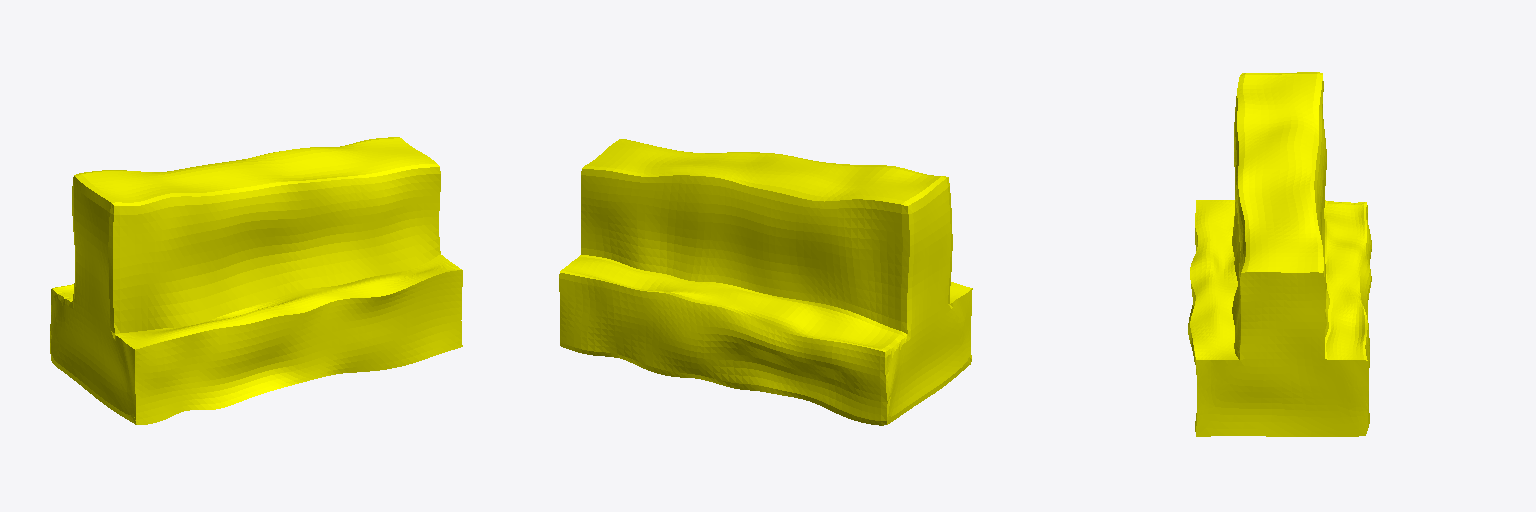
File: reel.obj
The picture shows the model from 3 angles: view 1: azimuth 30°, elevation 25°; view 2: azimuth 150°, elevation 25°; view 3: azimuth 270°, elevation 25°; orthographic projection.
Visible parts, largest first — view 1: reel; view 2: reel; view 3: reel.
Part boxes in pixels (left/top/right/bottom): reel: left=50, top=137, right=462, bottom=424; reel: left=559, top=139, right=972, bottom=425; reel: left=1188, top=72, right=1371, bottom=436.
Bounding box in the file's own units: 4.43 × 2.73 × 2.14.